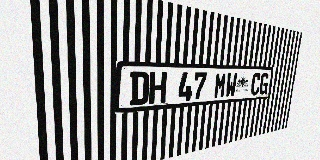4: (178, 72, 194, 102)
7: (192, 72, 207, 100)
C: (250, 73, 261, 96)
D: (130, 71, 149, 106)
G: (259, 73, 269, 95)
H: (149, 72, 167, 104)
M: (213, 72, 227, 99)
W: (225, 73, 238, 98)
